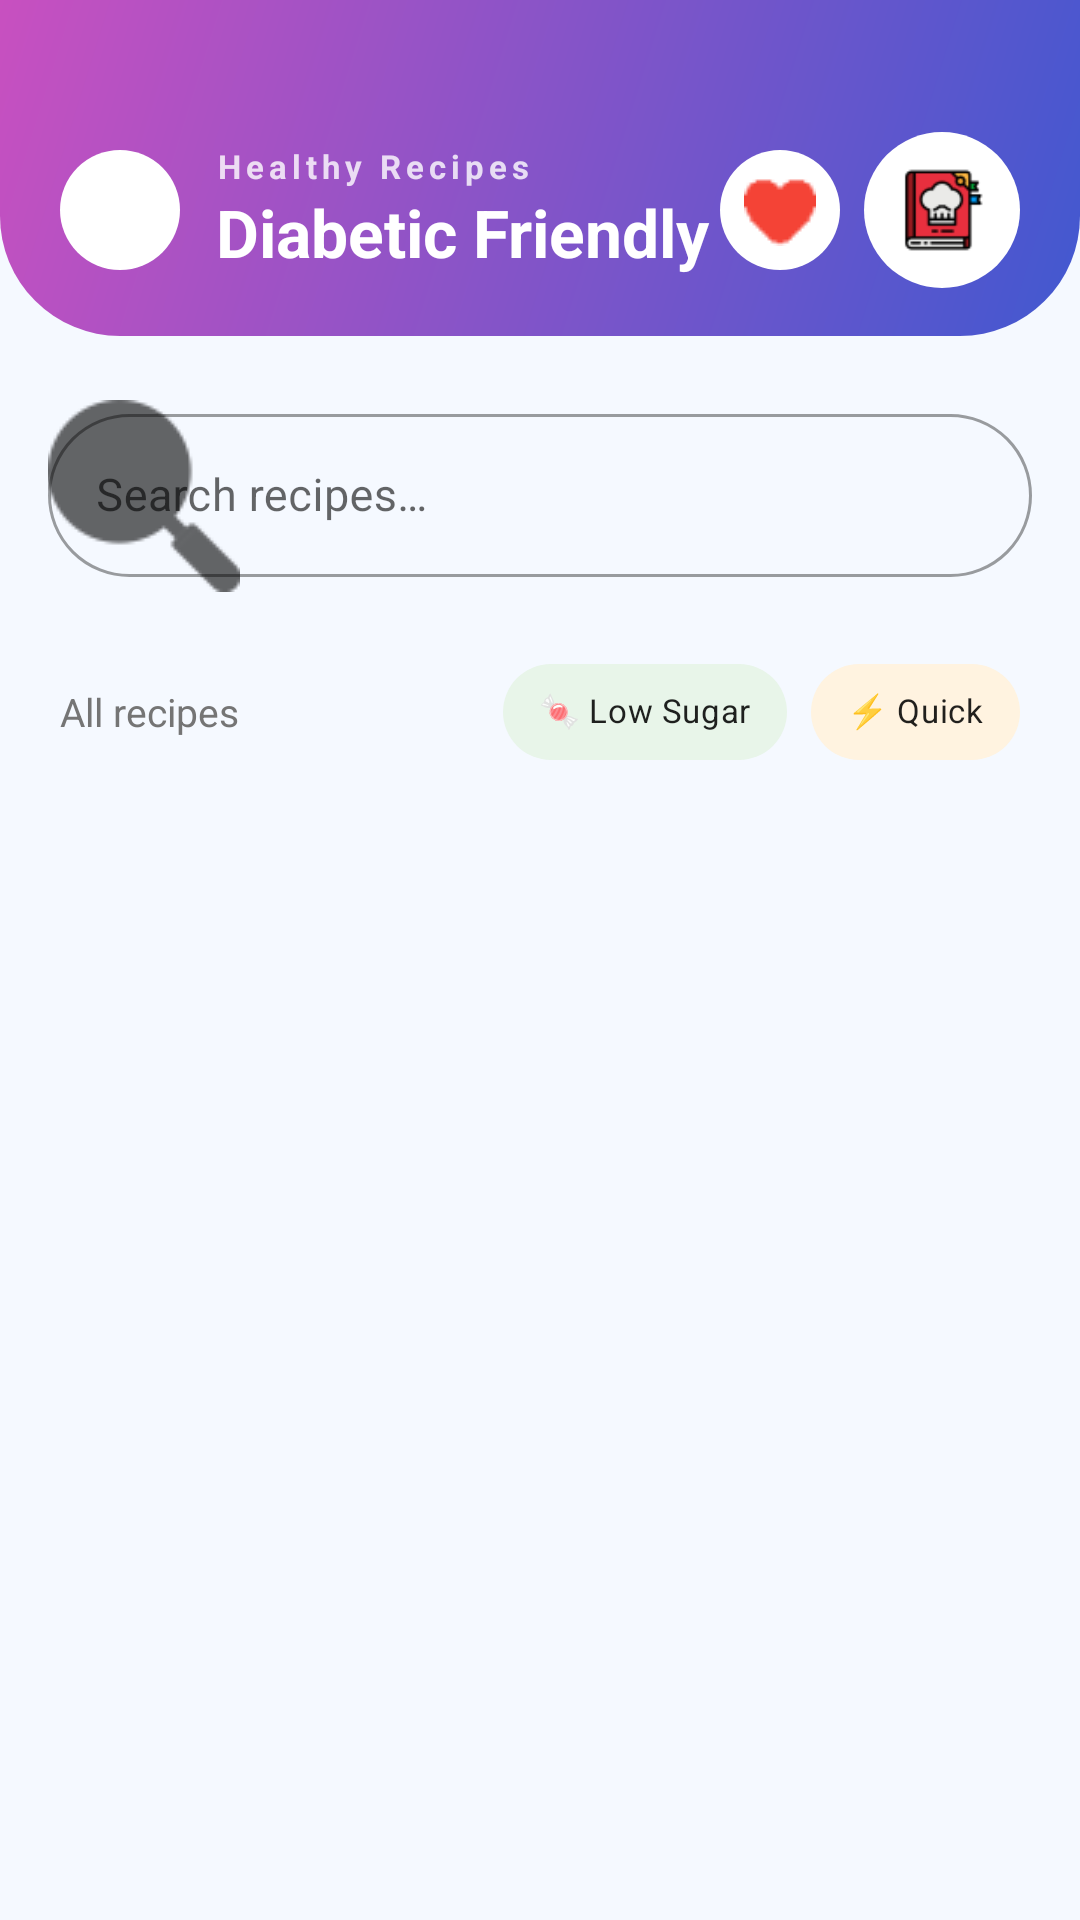

Where icons sit on this 1080px×1920px app screen, as (x1, y1, x2, y2):
fav: (720, 150, 840, 270)
